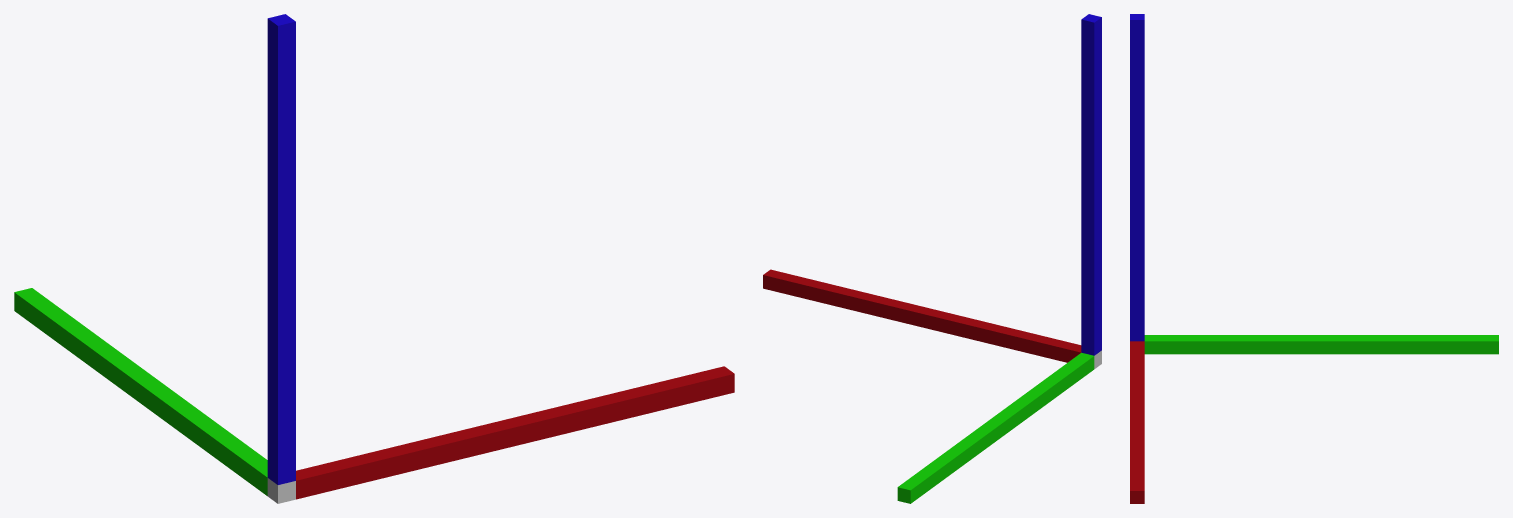
The model's file is frame.dae.
3 renders of one model, left to right at view 1: azimuth 30°, elevation 25°; view 2: azimuth 150°, elevation 25°; view 3: azimuth 270°, elevation 25°, orthographic. The views are drawn at different scales.
Parts seen in each view (by area): view 1: Cube; view 2: Cube; view 3: Cube.
Boxes of the visible parts, bbox=[...] form: Cube: bbox=[14, 14, 734, 503]; Cube: bbox=[763, 14, 1101, 503]; Cube: bbox=[1130, 14, 1498, 503].
Size of the model in its own units: 1.02 by 1.02 by 1.02.
